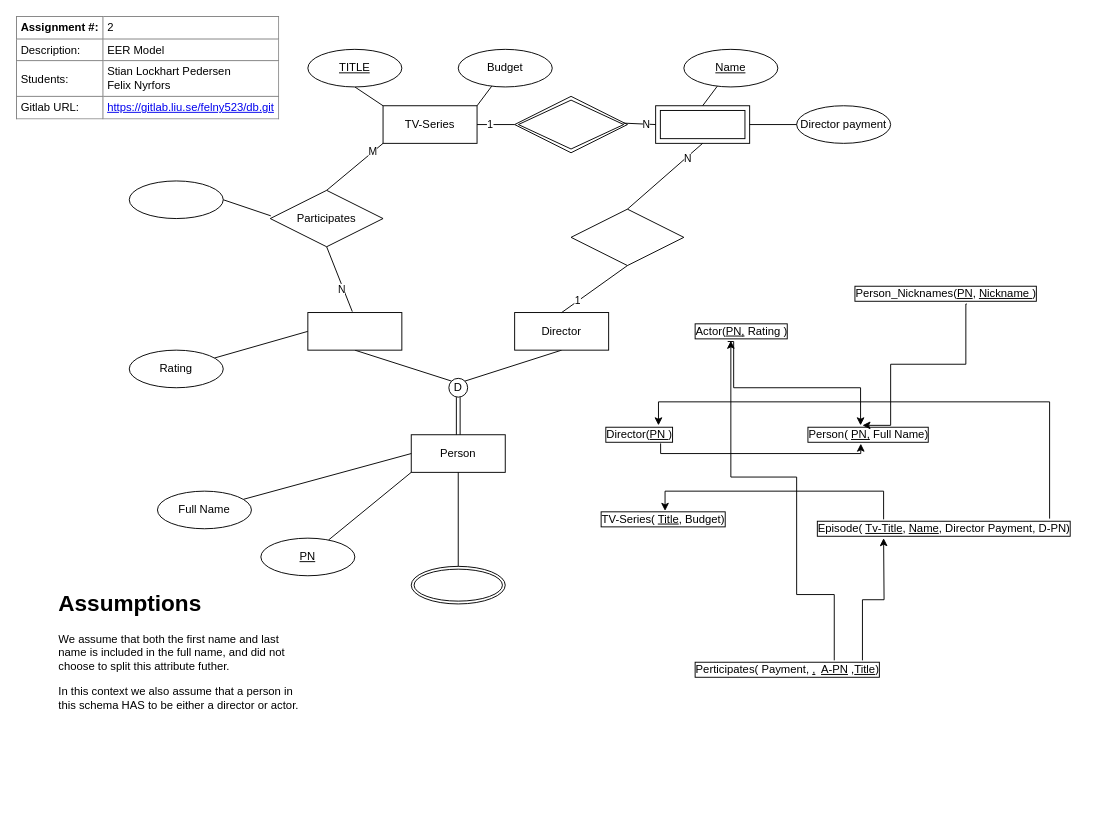
Image size: 1104x836. Some labels were removed from this diagram. The shapes that lost their labels are listed below. From the top down, each one's centre as x and y in pixels, then its label:
At pixel 570 124: "Contains".
At pixel 702 124: "Episode".
At pixel 175 199: "Payment".
At pixel 627 237: "Directs".
At pixel 354 331: "Actor".
At pixel 457 584: "Nicknames".
